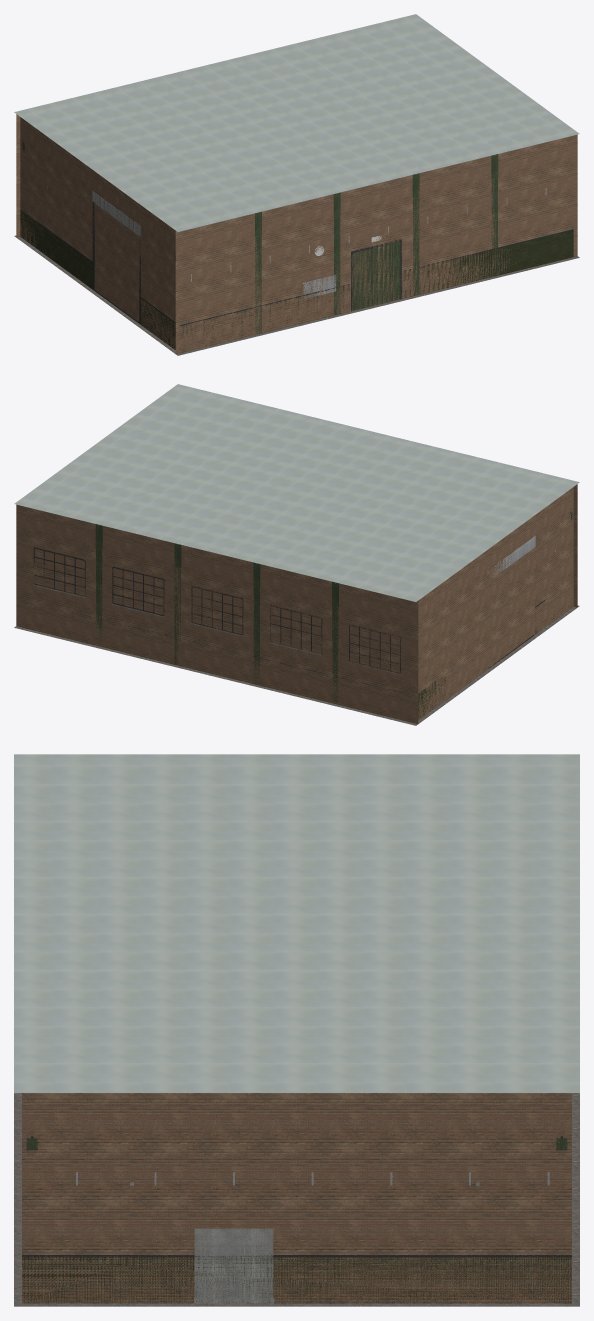
The model's file is factory_floor.glb.
The picture shows the model from 3 angles, top to bottom: view 1: azimuth 30°, elevation 25°; view 2: azimuth 150°, elevation 25°; view 3: azimuth 270°, elevation 25°; orthographic projection. The views are drawn at different scales.
Visible parts, largest first — view 1: Roof_Sheet, Wall_Brick, Wall_Dado, Steel_Green, Floor_Concrete, Steel_Dark, Steel_Galv; view 2: Wall_Brick, Roof_Sheet, Steel_Dark, Steel_Green, Floor_Concrete, Steel_Galv, Wall_Dado; view 3: Roof_Sheet, Wall_Brick, Wall_Dado, Panel_Grey, Floor_Concrete, Steel_Dark.
Part boxes in pixels (left/top/right/bottom): Roof_Sheet: left=14, top=14, right=579, bottom=231; Wall_Brick: left=16, top=114, right=577, bottom=353; Wall_Dado: left=20, top=210, right=573, bottom=351; Steel_Green: left=22, top=142, right=499, bottom=334; Floor_Concrete: left=14, top=235, right=579, bottom=355; Steel_Dark: left=21, top=142, right=573, bottom=332; Steel_Galv: left=92, top=188, right=546, bottom=298; Wall_Brick: left=16, top=484, right=577, bottom=723; Roof_Sheet: left=14, top=384, right=579, bottom=601; Steel_Dark: left=33, top=512, right=570, bottom=693; Steel_Green: left=95, top=512, right=572, bottom=704; Floor_Concrete: left=14, top=605, right=579, bottom=725; Steel_Galv: left=487, top=536, right=535, bottom=577; Wall_Dado: left=72, top=619, right=537, bottom=718; Roof_Sheet: left=14, top=754, right=579, bottom=1092; Wall_Brick: left=22, top=1093, right=571, bottom=1303; Wall_Dado: left=22, top=1257, right=571, bottom=1303; Panel_Grey: left=130, top=1182, right=479, bottom=1303; Floor_Concrete: left=14, top=1093, right=579, bottom=1306; Steel_Dark: left=22, top=1136, right=571, bottom=1257.
Size of the model in its own units: 20.4 by 6 by 14.4.
26 materials, 19 textured.
